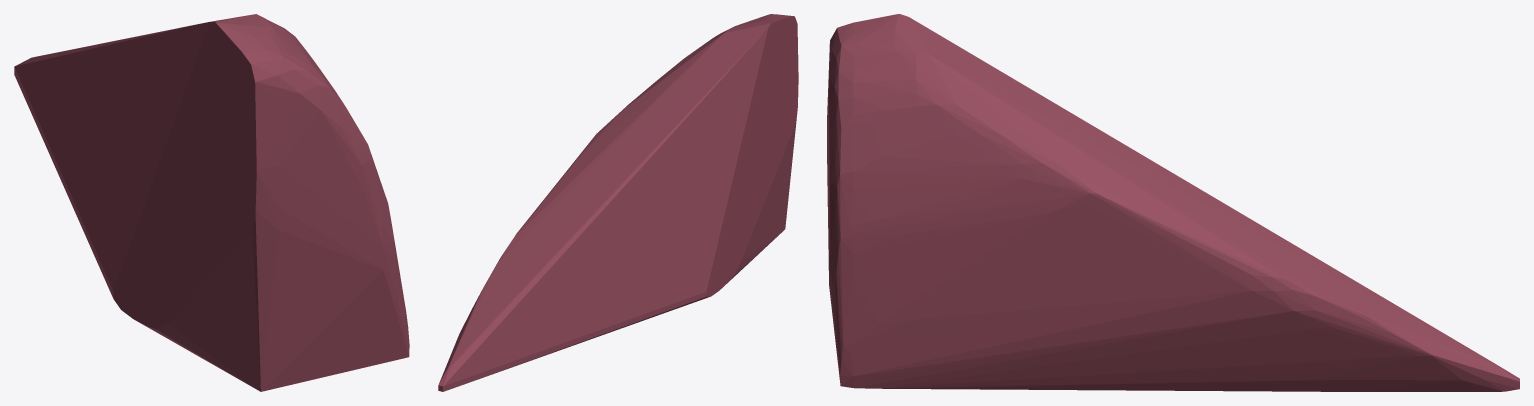
3 renders of one model, left to right at view 1: azimuth 30°, elevation 25°; view 2: azimuth 150°, elevation 25°; view 3: azimuth 270°, elevation 25°, orthographic. The views are drawn at different scales.
Size of the model in its own units: 0.0271 by 0.0491 by 0.0992.
